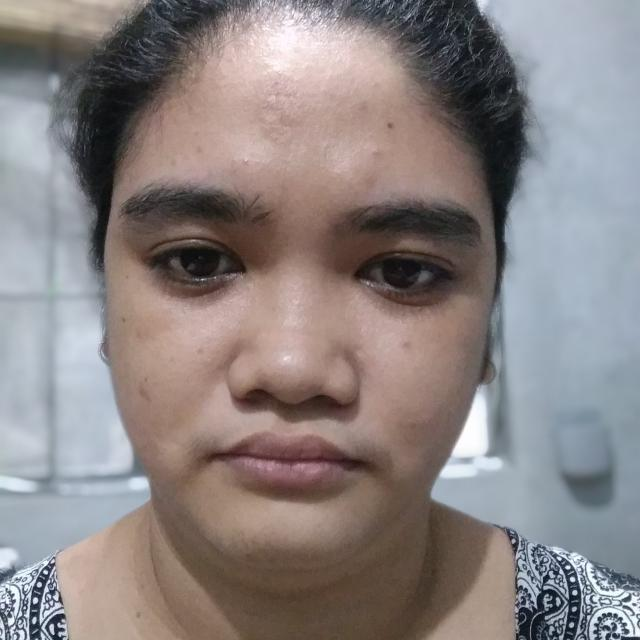Acne: (263, 73, 301, 135), (416, 414, 443, 454), (128, 374, 156, 406), (190, 336, 220, 364), (158, 152, 186, 176), (396, 334, 418, 360), (362, 144, 386, 164), (348, 99, 368, 120), (190, 134, 210, 154), (241, 154, 255, 178), (108, 310, 130, 325), (381, 114, 398, 130)
